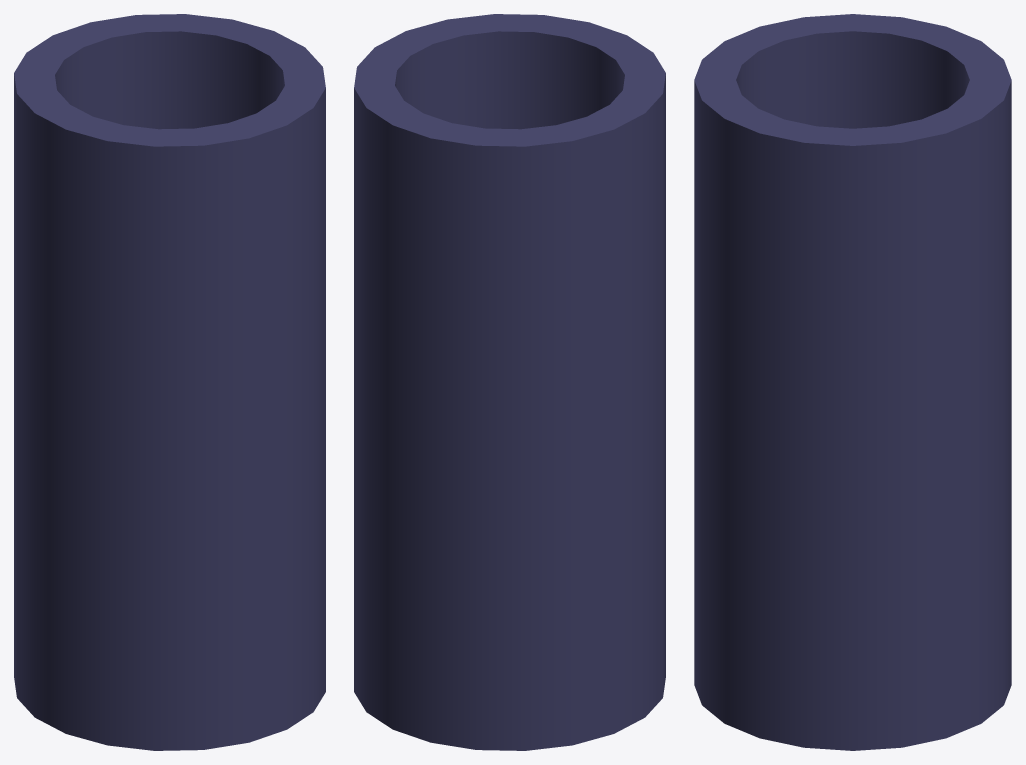
File: Pipe.fbx
The picture shows the model from 3 angles, left to right: view 1: azimuth 30°, elevation 25°; view 2: azimuth 150°, elevation 25°; view 3: azimuth 270°, elevation 25°; orthographic projection.
Visible parts, largest first — view 1: pPipe1; view 2: pPipe1; view 3: pPipe1.
Boxes of the visible parts, bbox=[...] form: pPipe1: bbox=[14, 14, 325, 750]; pPipe1: bbox=[354, 14, 665, 750]; pPipe1: bbox=[694, 14, 1011, 750].
Size of the model in its own units: 1.17 by 2.49 by 1.19.
